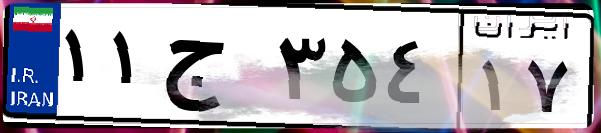1: (57, 26, 110, 100), (475, 38, 525, 113), (110, 28, 158, 98)
3: (270, 28, 330, 110)
4: (385, 28, 445, 110)
5: (330, 28, 385, 110)
7: (525, 38, 570, 115)
ج: (158, 20, 270, 120)
